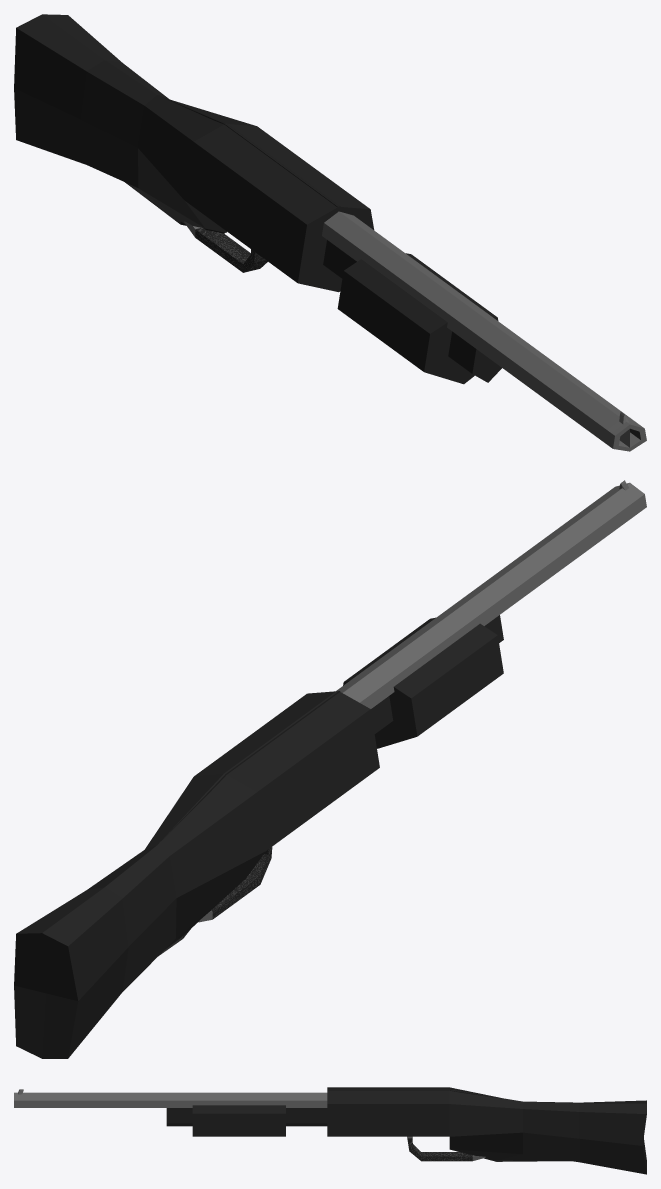
File: shotgun.glb
3 renders of one model, top to bottom at view 1: azimuth 30°, elevation 25°; view 2: azimuth 150°, elevation 25°; view 3: azimuth 270°, elevation 25°, orthographic. The views are drawn at different scales.
Visible parts, largest first — view 1: Cube; view 2: Cube; view 3: Cube.
Part boxes in pixels (x1,y1,x2,y2): Cube: [14, 14, 646, 451]; Cube: [14, 480, 646, 1058]; Cube: [14, 1087, 646, 1174].
Bounding box in the file's own units: 1.1 × 1.95 × 13.65.
Materials: 1 (1 with a texture image).
